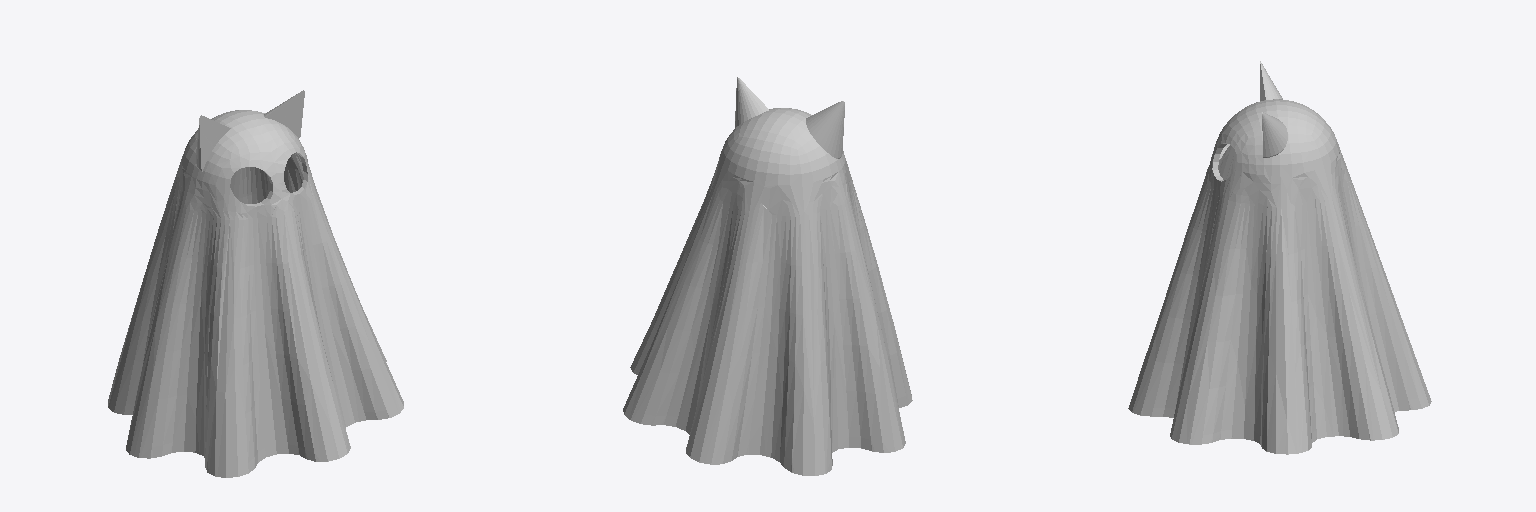
File: ghostCat.obj
3 renders of one model, left to right at view 1: azimuth 30°, elevation 25°; view 2: azimuth 150°, elevation 25°; view 3: azimuth 270°, elevation 25°, orthographic.
Visible parts, largest first — view 1: 000_Merged_Objects; view 2: 000_Merged_Objects; view 3: 000_Merged_Objects.
Part boxes in pixels (left/top/right/bottom): 000_Merged_Objects: left=108, top=90, right=403, bottom=477; 000_Merged_Objects: left=623, top=77, right=912, bottom=475; 000_Merged_Objects: left=1128, top=61, right=1431, bottom=454.
Bounding box in the file's own units: 20.94 × 25.05 × 21.05.